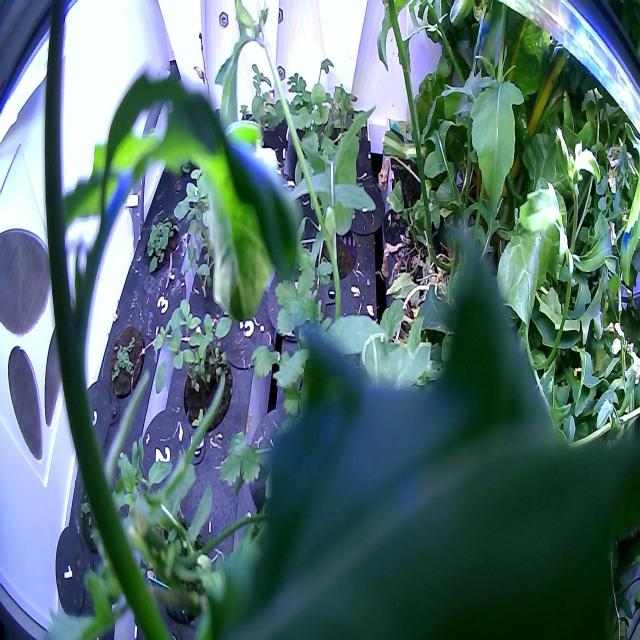empty_pod: (315, 208, 362, 288)
germination: (103, 320, 149, 405), (140, 209, 186, 284)
